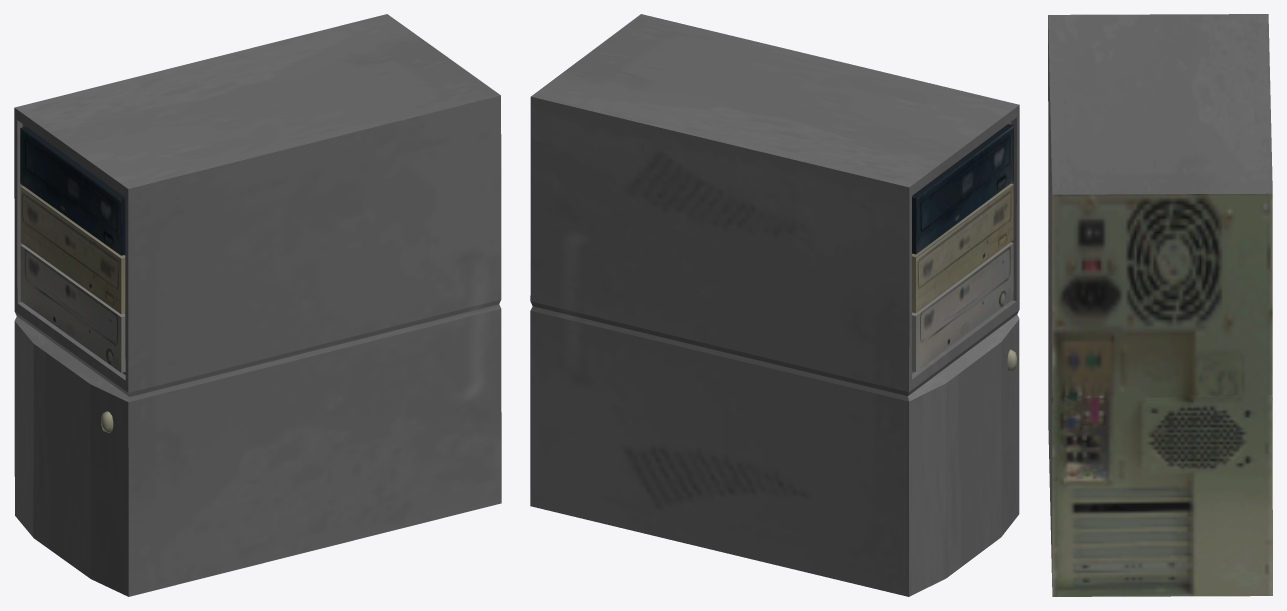
File: object_6.001_lev1.glb
The picture shows the model from 3 angles, left to right: view 1: azimuth 30°, elevation 25°; view 2: azimuth 150°, elevation 25°; view 3: azimuth 270°, elevation 25°; orthographic projection.
Visible parts, largest first — view 1: object_6.001_lev1; view 2: object_6.001_lev1; view 3: object_6.001_lev1.
Boxes of the visible parts, box(x1,y1,x2,y2) form: object_6.001_lev1: box(14, 14, 501, 596); object_6.001_lev1: box(530, 14, 1019, 596); object_6.001_lev1: box(1048, 14, 1272, 596).
Size of the model in its own units: 1.34 by 1.35 by 0.6834.
Materials: 1 (1 with a texture image).
